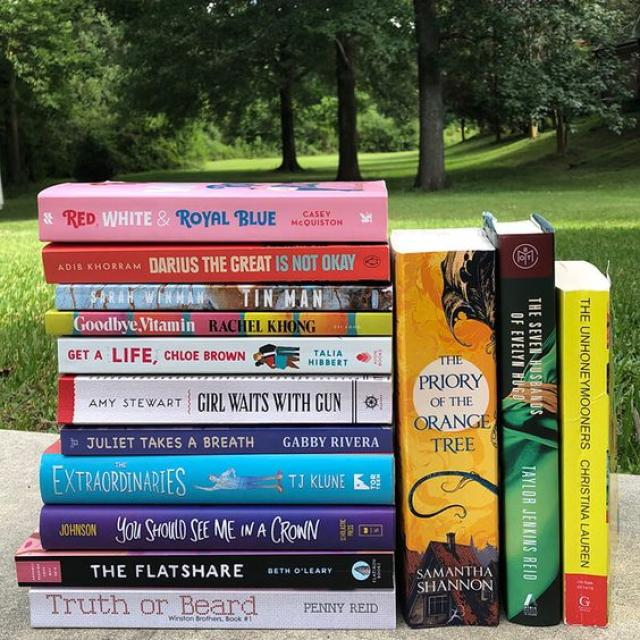book: (405, 251, 496, 627), (499, 233, 562, 625), (42, 456, 395, 507), (563, 287, 610, 627), (39, 197, 386, 241), (57, 379, 393, 424), (39, 508, 395, 550), (29, 591, 397, 628), (14, 557, 395, 589), (42, 245, 390, 280), (56, 338, 392, 372), (45, 311, 392, 337), (55, 286, 391, 312), (61, 428, 392, 454)
